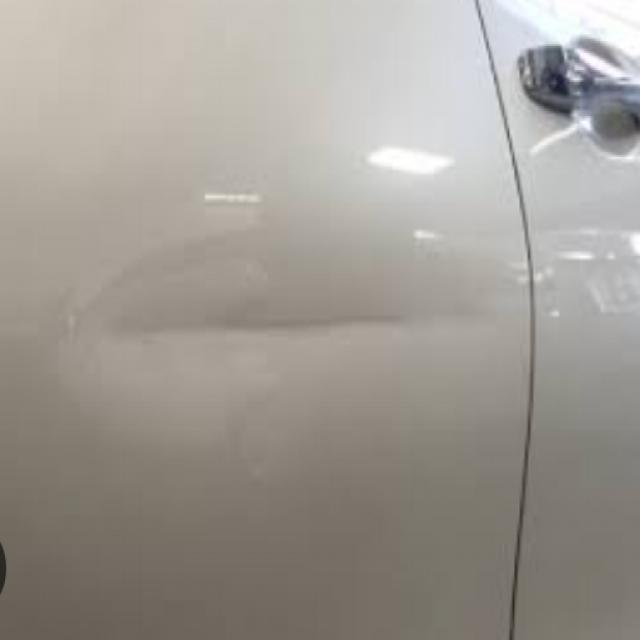dents: (74, 267, 454, 374)
